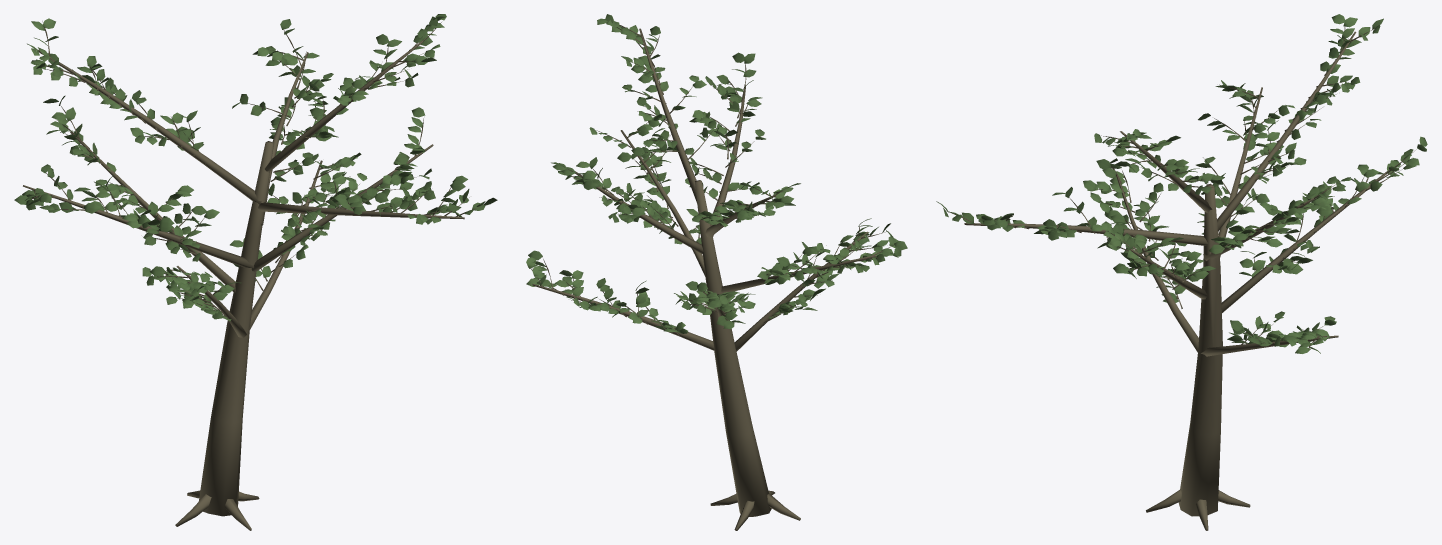
Rendered from CheneVert_0_LOD1.fbx.
3 renders of one model, left to right at view 1: azimuth 30°, elevation 25°; view 2: azimuth 150°, elevation 25°; view 3: azimuth 270°, elevation 25°, orthographic. The views are drawn at different scales.
Parts seen in each view (by area): view 1: CheneVert_0_LOD1; view 2: CheneVert_0_LOD1; view 3: CheneVert_0_LOD1.
Boxes of the visible parts, <box> form: CheneVert_0_LOD1: <box>14,14,497,530</box>; CheneVert_0_LOD1: <box>526,14,907,530</box>; CheneVert_0_LOD1: <box>936,14,1427,530</box>.
Bounding box in the file's own units: 494 × 588 × 554.
